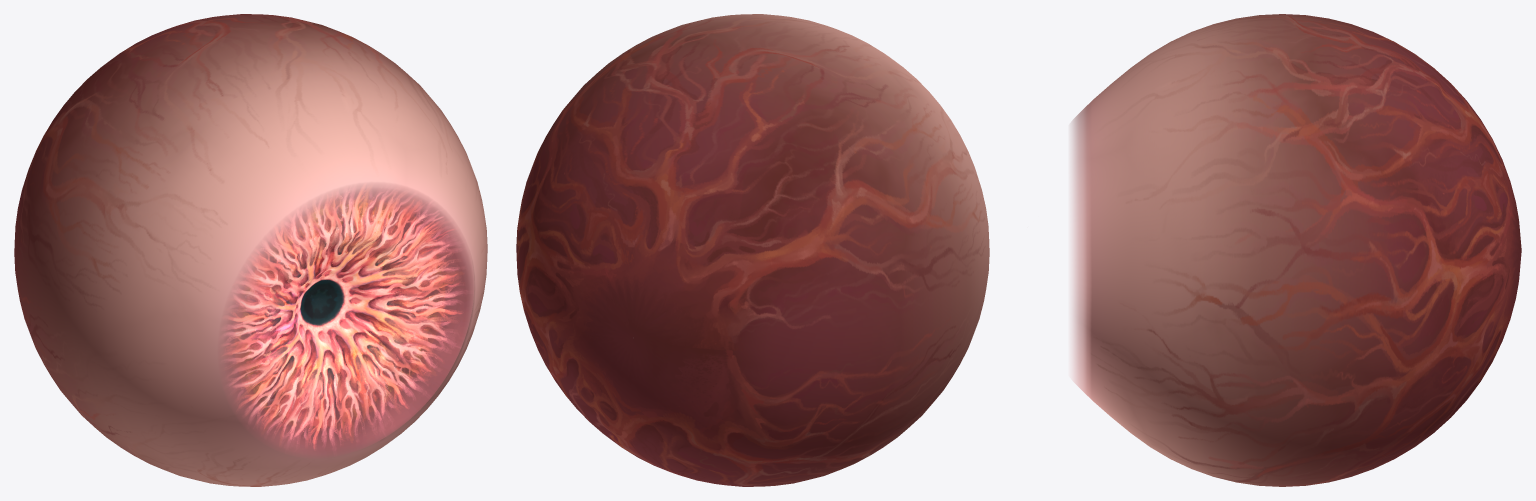
3 views of the same model, side by side, from view 1: azimuth 30°, elevation 25°; view 2: azimuth 150°, elevation 25°; view 3: azimuth 270°, elevation 25° (orthographic).
Visible parts, largest first — view 1: eye-illusion_2, irys.parasite_1; view 2: eye-illusion_2; view 3: eye-illusion_2.
Boxes of the visible parts, box(x1,y1,x2,y2) form: eye-illusion_2: box(14, 14, 487, 486); irys.parasite_1: box(219, 184, 473, 457); eye-illusion_2: box(516, 14, 989, 486); eye-illusion_2: box(1070, 14, 1521, 486).
Bounding box in the file's own units: 1.97 × 1.97 × 2.1.
Materials: 2 (2 with a texture image).
